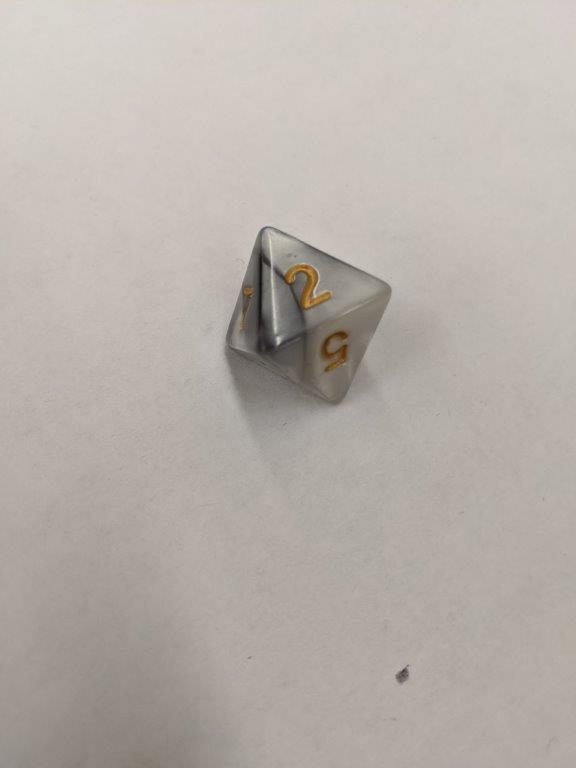d8-2: (222, 226, 392, 405)
